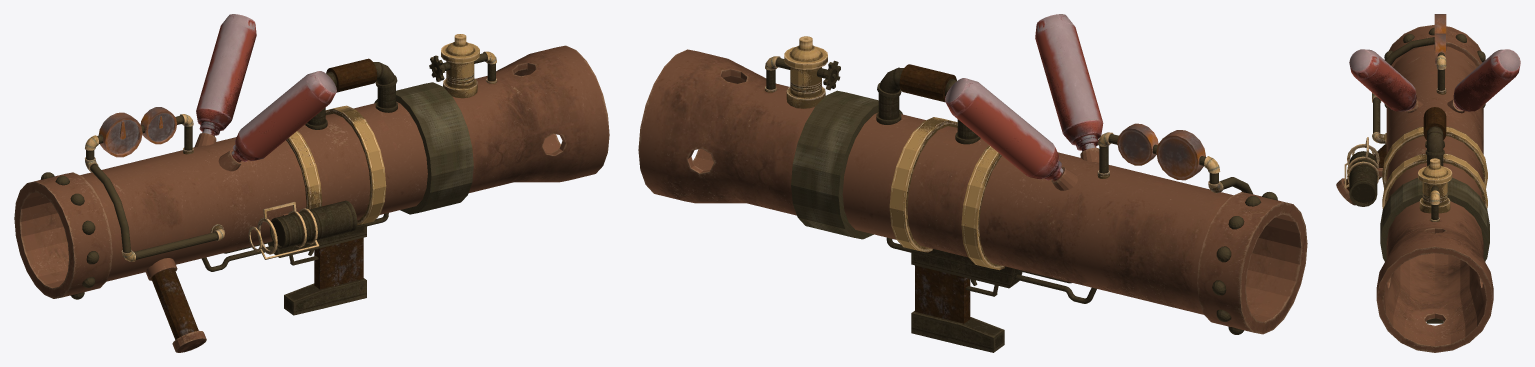
3 views of the same model, side by side, from view 1: azimuth 30°, elevation 25°; view 2: azimuth 150°, elevation 25°; view 3: azimuth 270°, elevation 25° (orthographic). The views are drawn at different scales.
Parts seen in each view (by area): view 1: body01_low, gas_low, fabric_low, rings_low, body02_low, handle01_low, scope_low, indicators01_low, pipes01_low, grip01_low, cilinder_low, handle02_low (+5 smaller); view 2: body01_low, gas_low, fabric_low, rings_low, body02_low, indicators01_low, grip01_low, cilinder_low, handle02_low, grip02_low, pipes01_low, bolts_low (+2 smaller); view 3: body01_low, gas_low, fabric_low, rings_low, scope_low, cilinder_low, pipes01_low, lens_low, handle02_low, pipes02_low, indicators01_low, grip02_low (+2 smaller).
Part boxes in pixels (x1,y1,x2,y2): body01_low: [14, 45, 609, 298]; gas_low: [196, 14, 336, 162]; fabric_low: [374, 82, 473, 214]; rings_low: [286, 105, 386, 225]; body02_low: [268, 223, 366, 315]; handle01_low: [145, 258, 206, 352]; scope_low: [270, 200, 357, 249]; indicators01_low: [98, 107, 177, 157]; pipes01_low: [86, 53, 495, 259]; grip01_low: [314, 237, 363, 289]; cilinder_low: [441, 34, 479, 98]; handle02_low: [305, 62, 397, 129]; body01_low: [638, 49, 1307, 334]; gas_low: [945, 14, 1103, 180]; fabric_low: [791, 90, 902, 239]; rings_low: [889, 117, 1004, 270]; body02_low: [911, 249, 1022, 352]; indicators01_low: [1117, 123, 1205, 180]; grip01_low: [915, 265, 970, 323]; cilinder_low: [784, 36, 827, 108]; handle02_low: [876, 67, 980, 144]; grip02_low: [899, 64, 956, 102]; pipes01_low: [766, 58, 1252, 194]; bolts_low: [1212, 192, 1277, 334]; body01_low: [1376, 25, 1493, 352]; gas_low: [1349, 49, 1520, 111]; fabric_low: [1380, 177, 1489, 261]; rings_low: [1382, 126, 1487, 208]; scope_low: [1349, 151, 1377, 206]; cilinder_low: [1418, 158, 1452, 213]; pipes01_low: [1373, 37, 1444, 219]; lens_low: [1344, 137, 1379, 188]; handle02_low: [1425, 126, 1444, 166]; pipes02_low: [1372, 55, 1446, 221]; indicators01_low: [1434, 14, 1446, 64]; grip02_low: [1423, 107, 1446, 139].
Size of the model in its own units: 22.03 by 10.75 by 7.56.
Materials: 1 (1 with a texture image).
